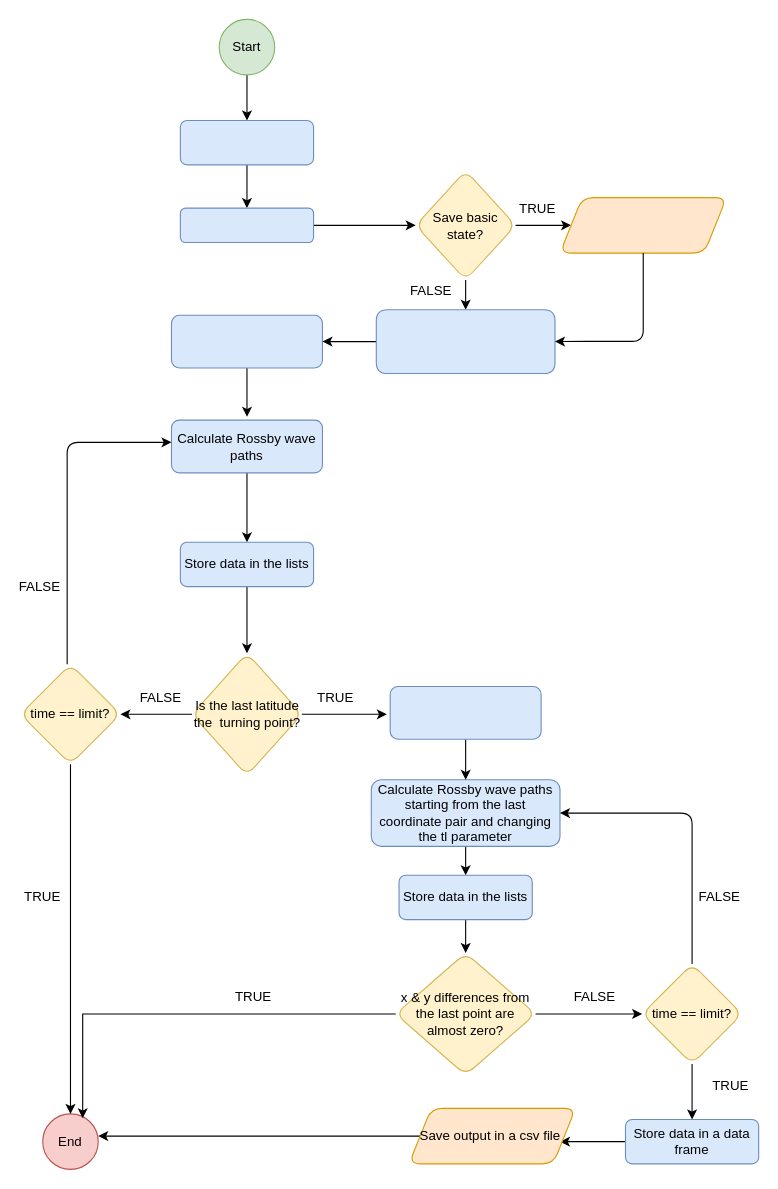
This 778x1189 diagram has some shape labels left out. Here are the shapes that lost their labels. From the top down, the centre of each, then its label:
At point (246, 142): "Read input data".
At point (246, 225): "Calculate basic state".
At point (642, 224): "Save basic state in a NetCDF file".
At point (246, 341): "Create lists for storing inputs at selected coordinates and outputs".
At point (465, 341): "Return basic state to the main program".
At point (465, 712): "Move to the following loop while".
